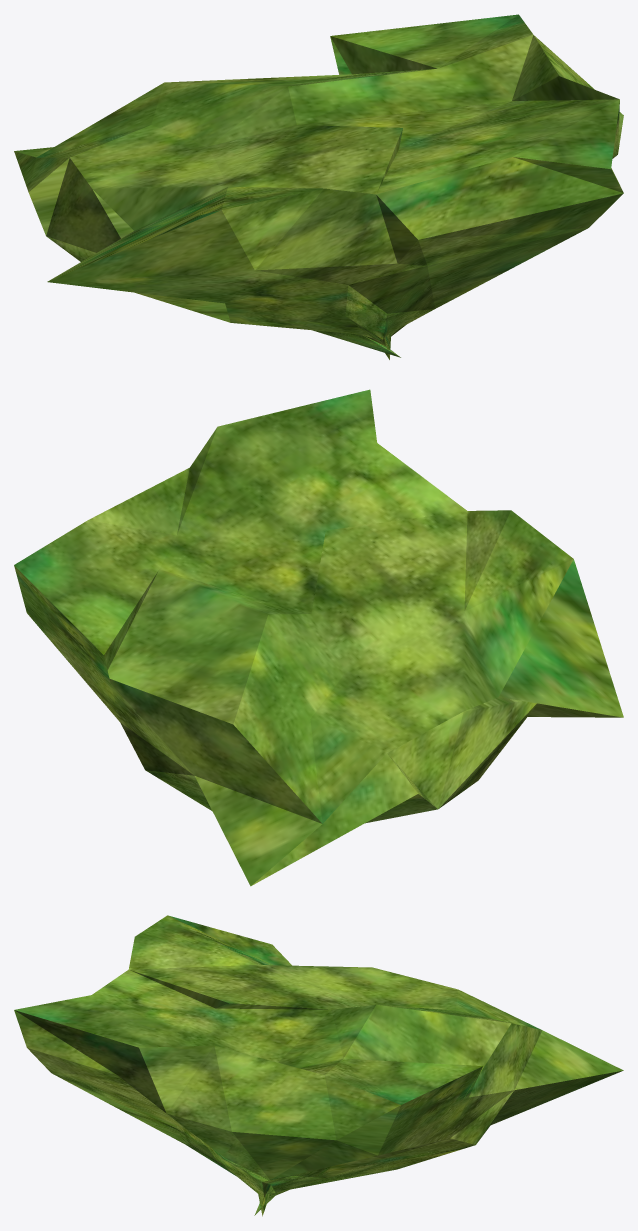
File: shrub2.dae
3 renders of one model, top to bottom at view 1: azimuth 30°, elevation 25°; view 2: azimuth 150°, elevation 25°; view 3: azimuth 270°, elevation 25°, orthographic. The views are drawn at different scales.
Parts seen in each view (by area): view 1: shrub_template2_010; view 2: shrub_template2_010; view 3: shrub_template2_010.
Boxes of the visible parts, x1,y1,x2,y2 form: shrub_template2_010: (14, 14, 623, 359); shrub_template2_010: (14, 389, 623, 886); shrub_template2_010: (14, 915, 623, 1216).
Size of the model in its own units: 5.32 by 5.99 by 2.57.
